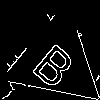B: (30, 35, 84, 92)
